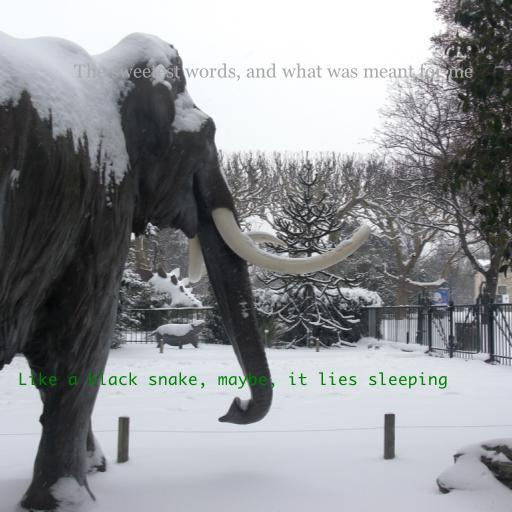Georgia: (73, 63, 473, 81)
Monaco: (18, 372, 448, 389)
